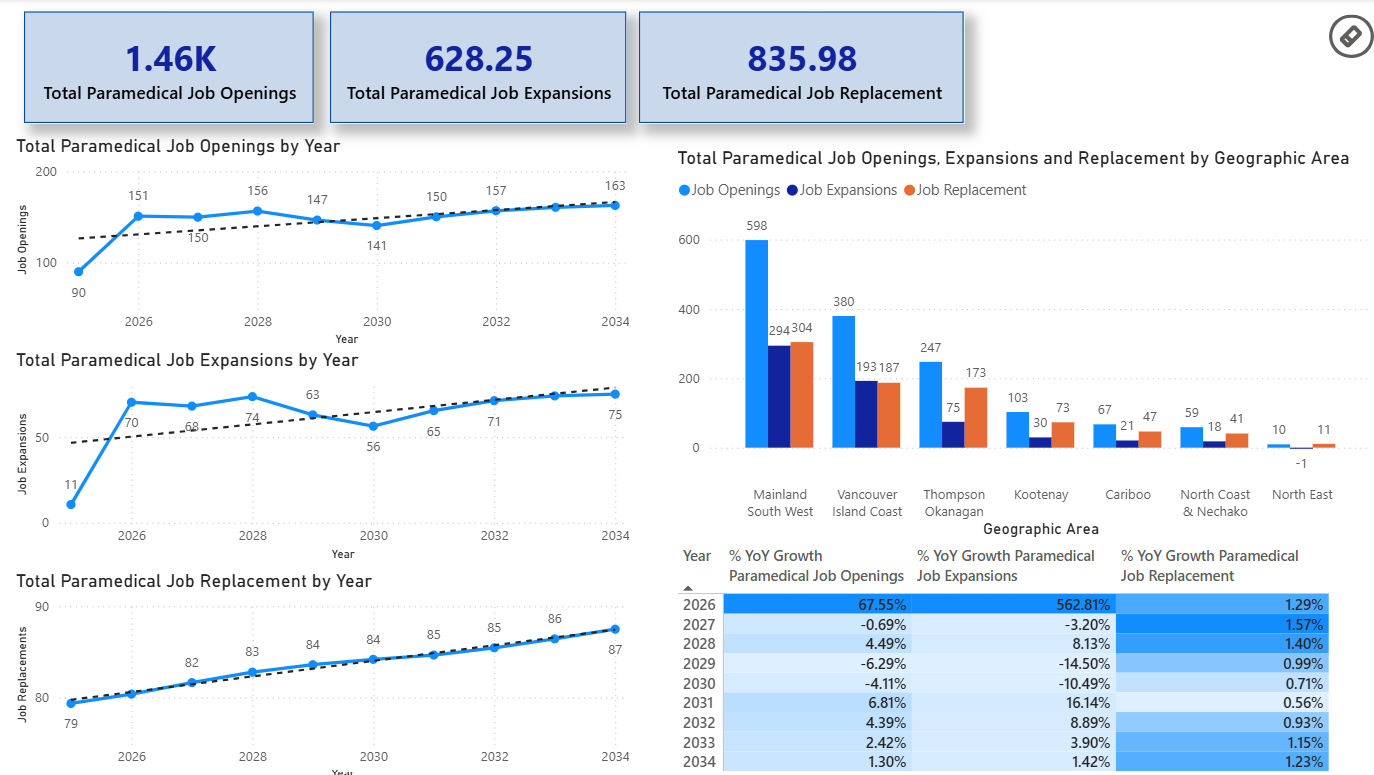

Layout of this report page (visuals, bound fields, positions):
{"tool":"powerbi","page":{"name":"Labour Outlook - Jobs","canvas":[1280,720],"ordinal":4},"visuals":[{"type":"image","box":[12.4,0,119.4,135.9],"z":0},{"type":"lineChart","fields":{"Category":["Years.Year"],"Y":["Measure Table.Total Paramedical Job Openings"]},"box":[12.4,124.9,570.9,197.6],"z":1000},{"type":"cardVisual","fields":{"Data":["Measure Table.Total Paramedical Job Openings"]},"box":[144.5,14.9,265.1,102.8],"z":2000},{"type":"clusteredColumnChart","title":"Total Paramedical Job Openings, Expansions and Replacement by Geographic Area","fields":{"Category":["Job_Openings_By_Occupation_BC.Geographic Area"],"Y":["Measure Table.Total Paramedical Job Openings","Measure Table.Total Paramedical Job Expansions","Measure Table.Total Paramedical Job Replacement"]},"box":[617.5,135.9,645,362.3],"z":3000},{"type":"lineChart","fields":{"Category":["Years.Year"],"Y":["Measure Table.Total Paramedical Job Expansions"]},"box":[12.4,321.1,570.9,197.6],"z":4000},{"type":"lineChart","fields":{"Category":["Years.Year"],"Y":["Measure Table.Total Paramedical Job Replacement"]},"box":[12.4,522.4,570.9,197.6],"z":5000},{"type":"cardVisual","fields":{"Data":["Measure Table.Total Paramedical Job Expansions"]},"box":[424.5,14.9,271.1,102.8],"z":6000},{"type":"cardVisual","fields":{"Data":["Measure Table.Total Paramedical Job Replacement"]},"box":[707.5,14.9,297.9,102.8],"z":7000},{"type":"pivotTable","fields":{"Values":["Measure Table.% YoY Growth Paramedical Job Openings","Measure Table.% YoY Growth Paramedical Job Expansions","Measure Table.% YoY Growth Paramedical Job Replacement"],"Rows":["Job_Openings_By_Occupation_BC.Year"]},"box":[617.8,495.9,644.7,223.9],"z":8000},{"type":"actionButton","box":[1218.6,15.1,41.2,39.8],"z":9000}]}

Visuals, with their boxes in screenshot pixels (x1, y1, x2, y2), scaled from the page's 1280x720 canvas onto the 1374x775 screenshot:
image: (13, 0, 141, 146)
lineChart - Years.Year x Measure Table.Total Paramedical Job Openings: (13, 134, 626, 347)
cardVisual - Measure Table.Total Paramedical Job Openings: (155, 16, 440, 127)
"Total Paramedical Job Openings, Expansions and Replacement by Geographic Area" clusteredColumnChart: (663, 146, 1355, 536)
lineChart - Years.Year x Measure Table.Total Paramedical Job Expansions: (13, 346, 626, 558)
lineChart - Years.Year x Measure Table.Total Paramedical Job Replacement: (13, 562, 626, 774)
cardVisual - Measure Table.Total Paramedical Job Expansions: (456, 16, 747, 127)
cardVisual - Measure Table.Total Paramedical Job Replacement: (759, 16, 1079, 127)
pivotTable - Measure Table.% YoY Growth Paramedical Job Openings x Measure Table.% YoY Growth Paramedical Job Expansions: (663, 534, 1355, 774)
actionButton: (1308, 16, 1352, 59)
